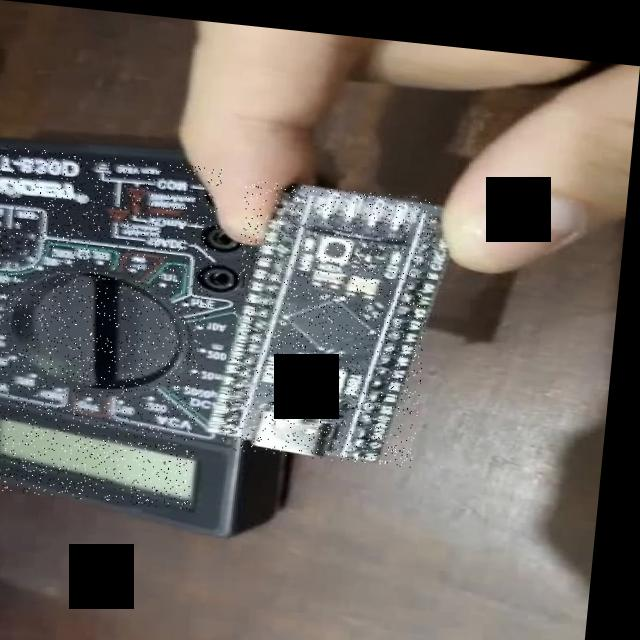multimeter: (0, 144, 226, 505)
stm32: (229, 173, 441, 459)
